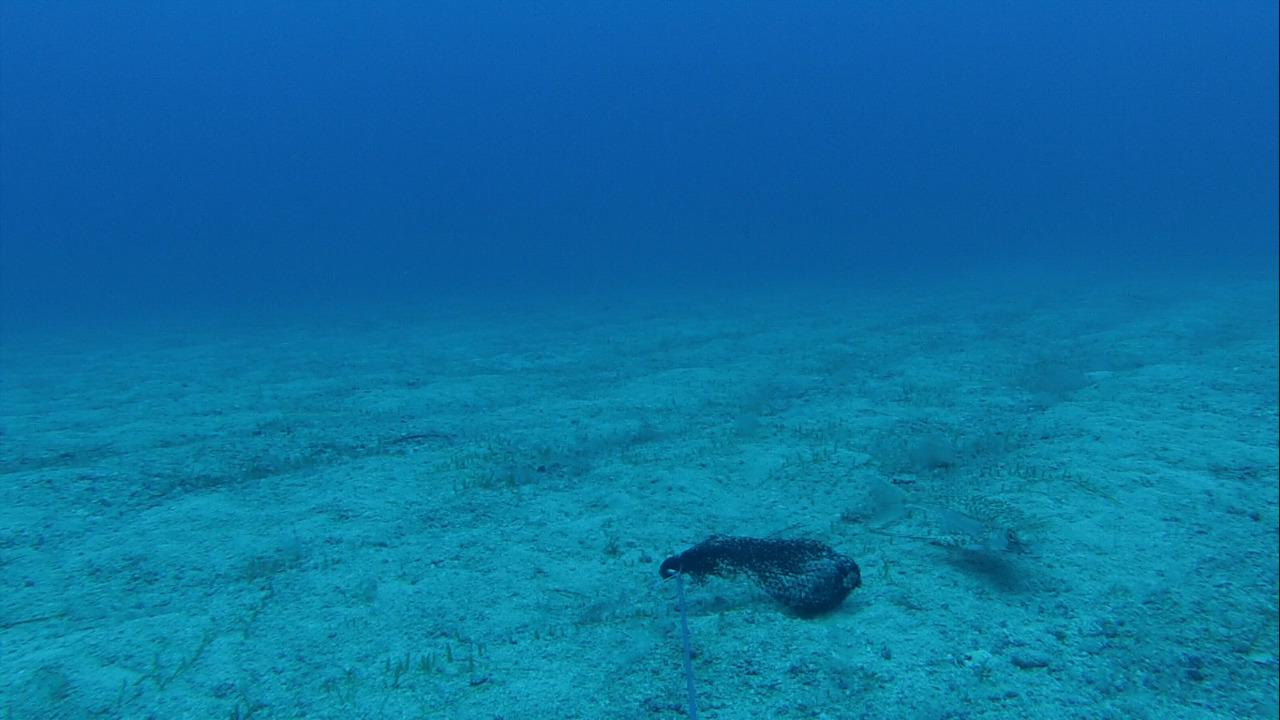dactylopterus: (820, 461, 1042, 578)
